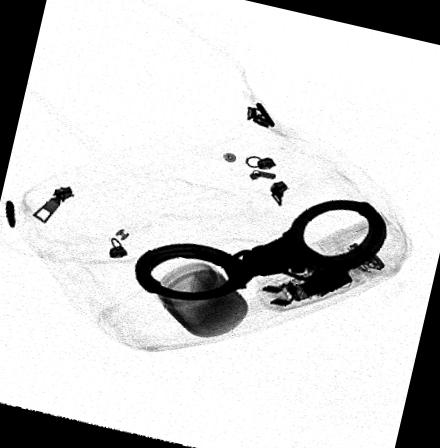HandCuffs: (134, 199, 386, 301)
